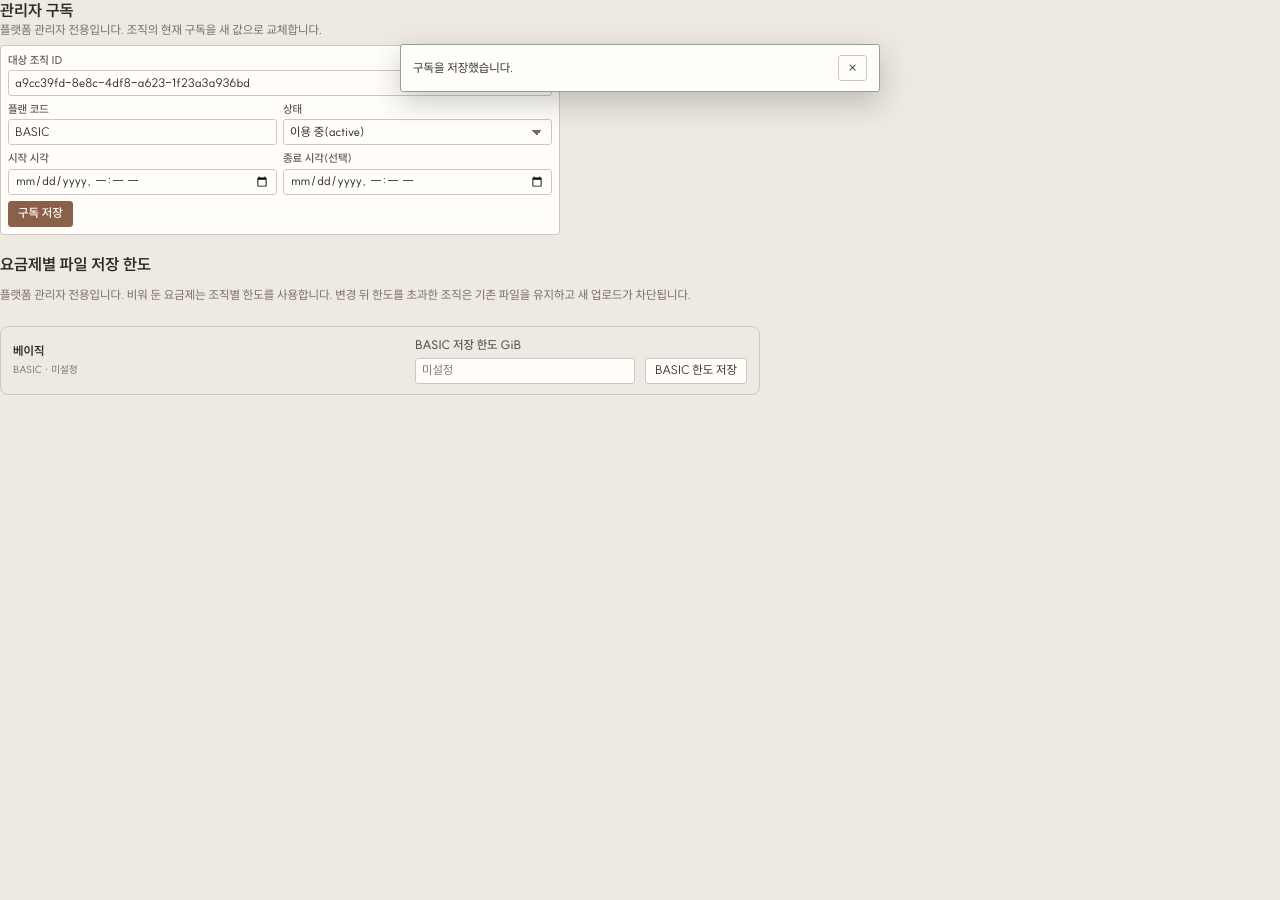
Test case: AdminSubscriptionPage › 미설정 플랜 용량은 빈 값으로 표시하고 확인 뒤 바이트 단위로 저장한다
This screenshot has width=1280, height=900.
In the number field labelled "BASIC 저장 한도 GiB": point(525, 371) x1=415 y1=358 x2=635 y2=384, type "8"
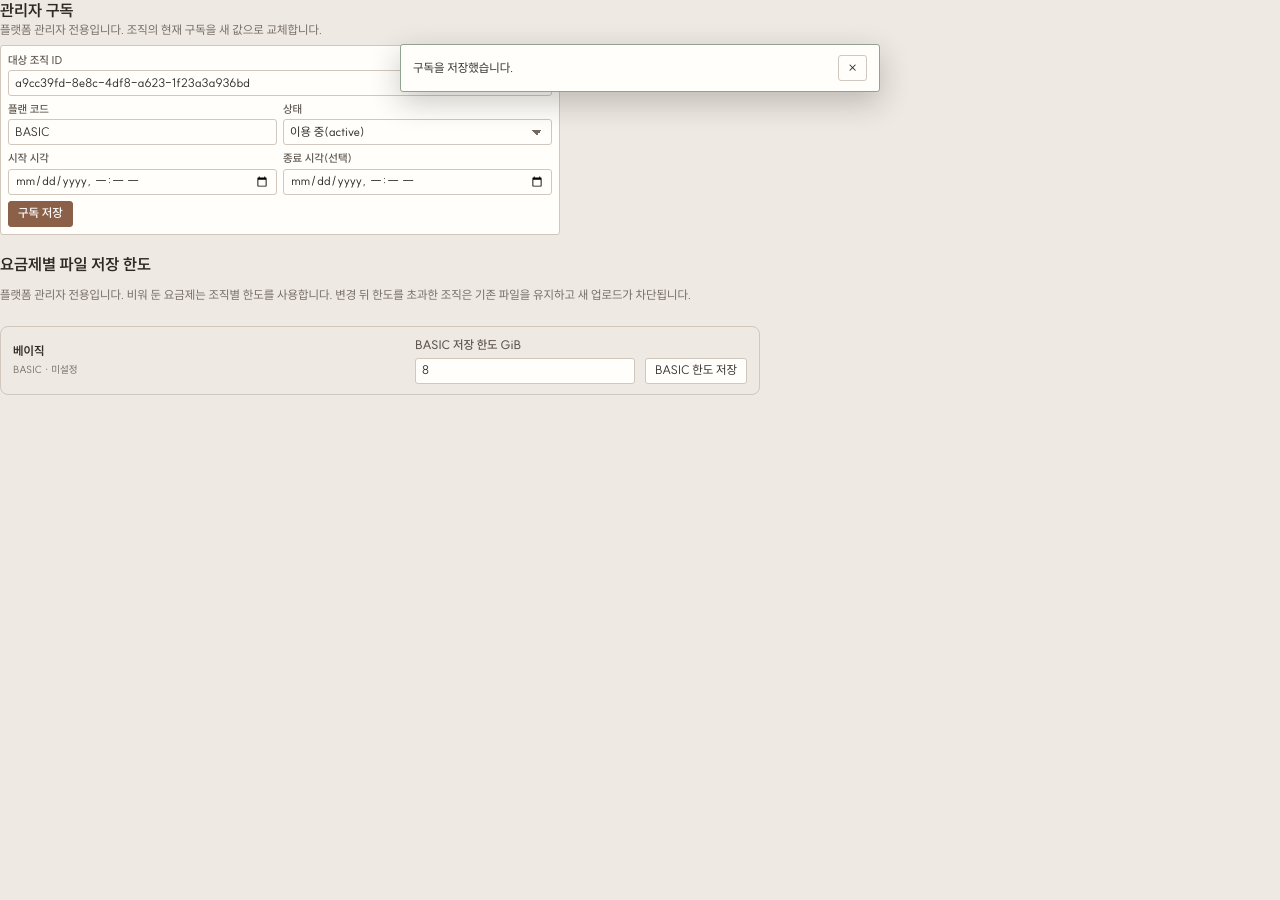
Click the button "BASIC 한도 저장": point(696, 371) x1=645 y1=358 x2=747 y2=384
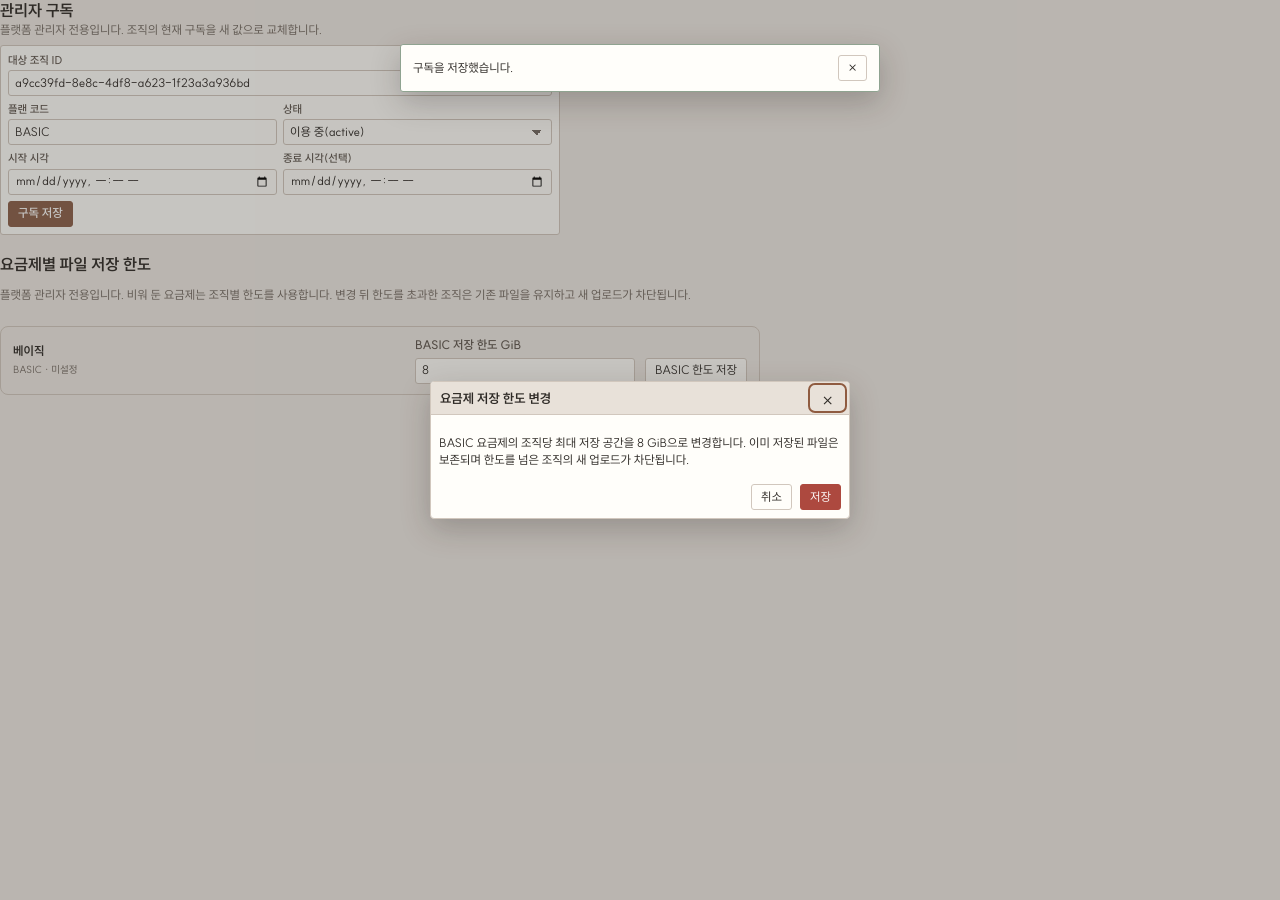
Click the button "저장": point(820, 497) x1=800 y1=484 x2=841 y2=510
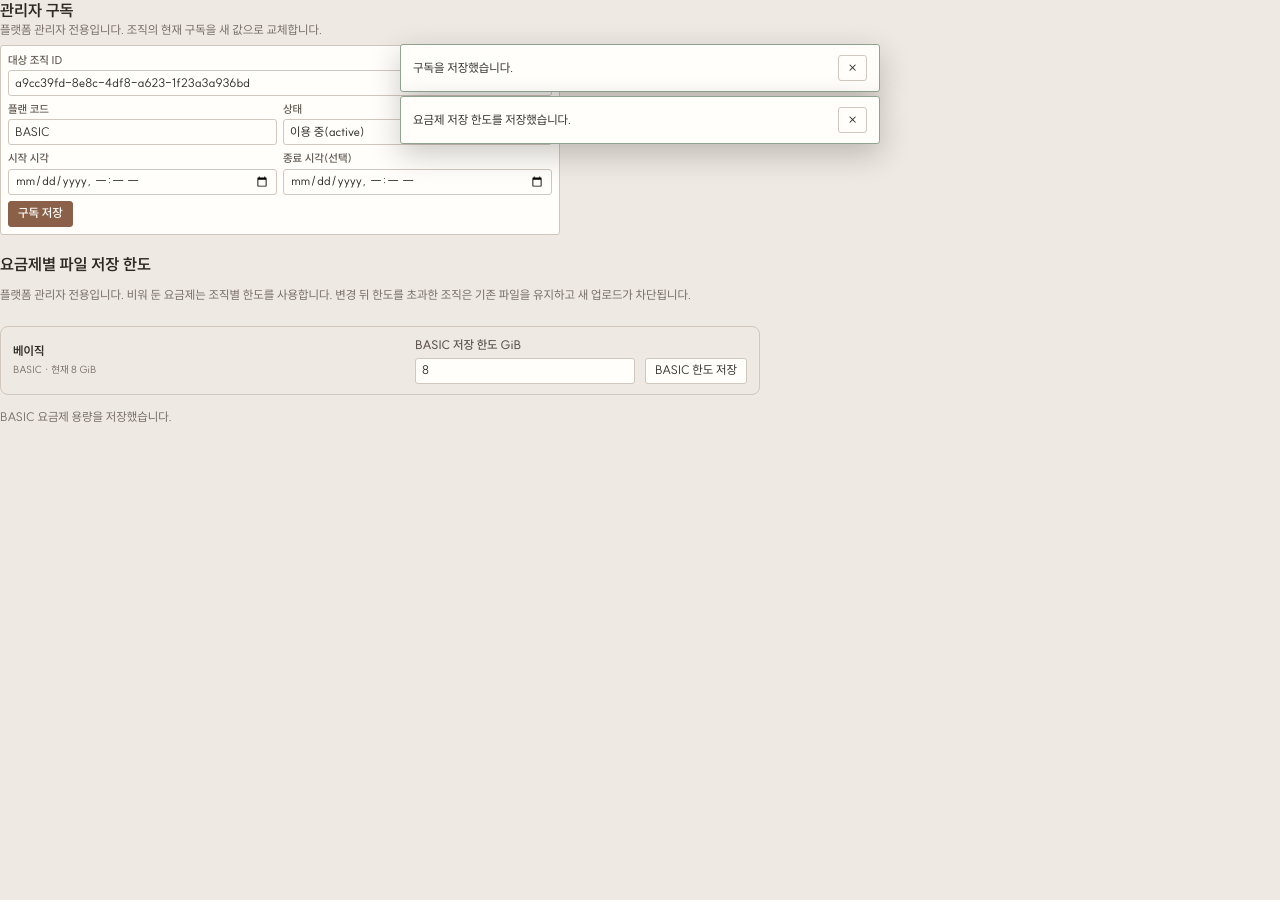
Result: the text "BASIC 요금제 용량을 저장했습니다." is shown at x1=0 y1=409 x2=172 y2=424
